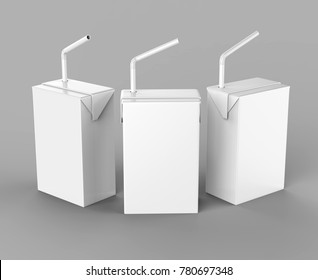carton: (22, 19, 119, 216), (204, 17, 291, 212), (121, 18, 202, 220)
